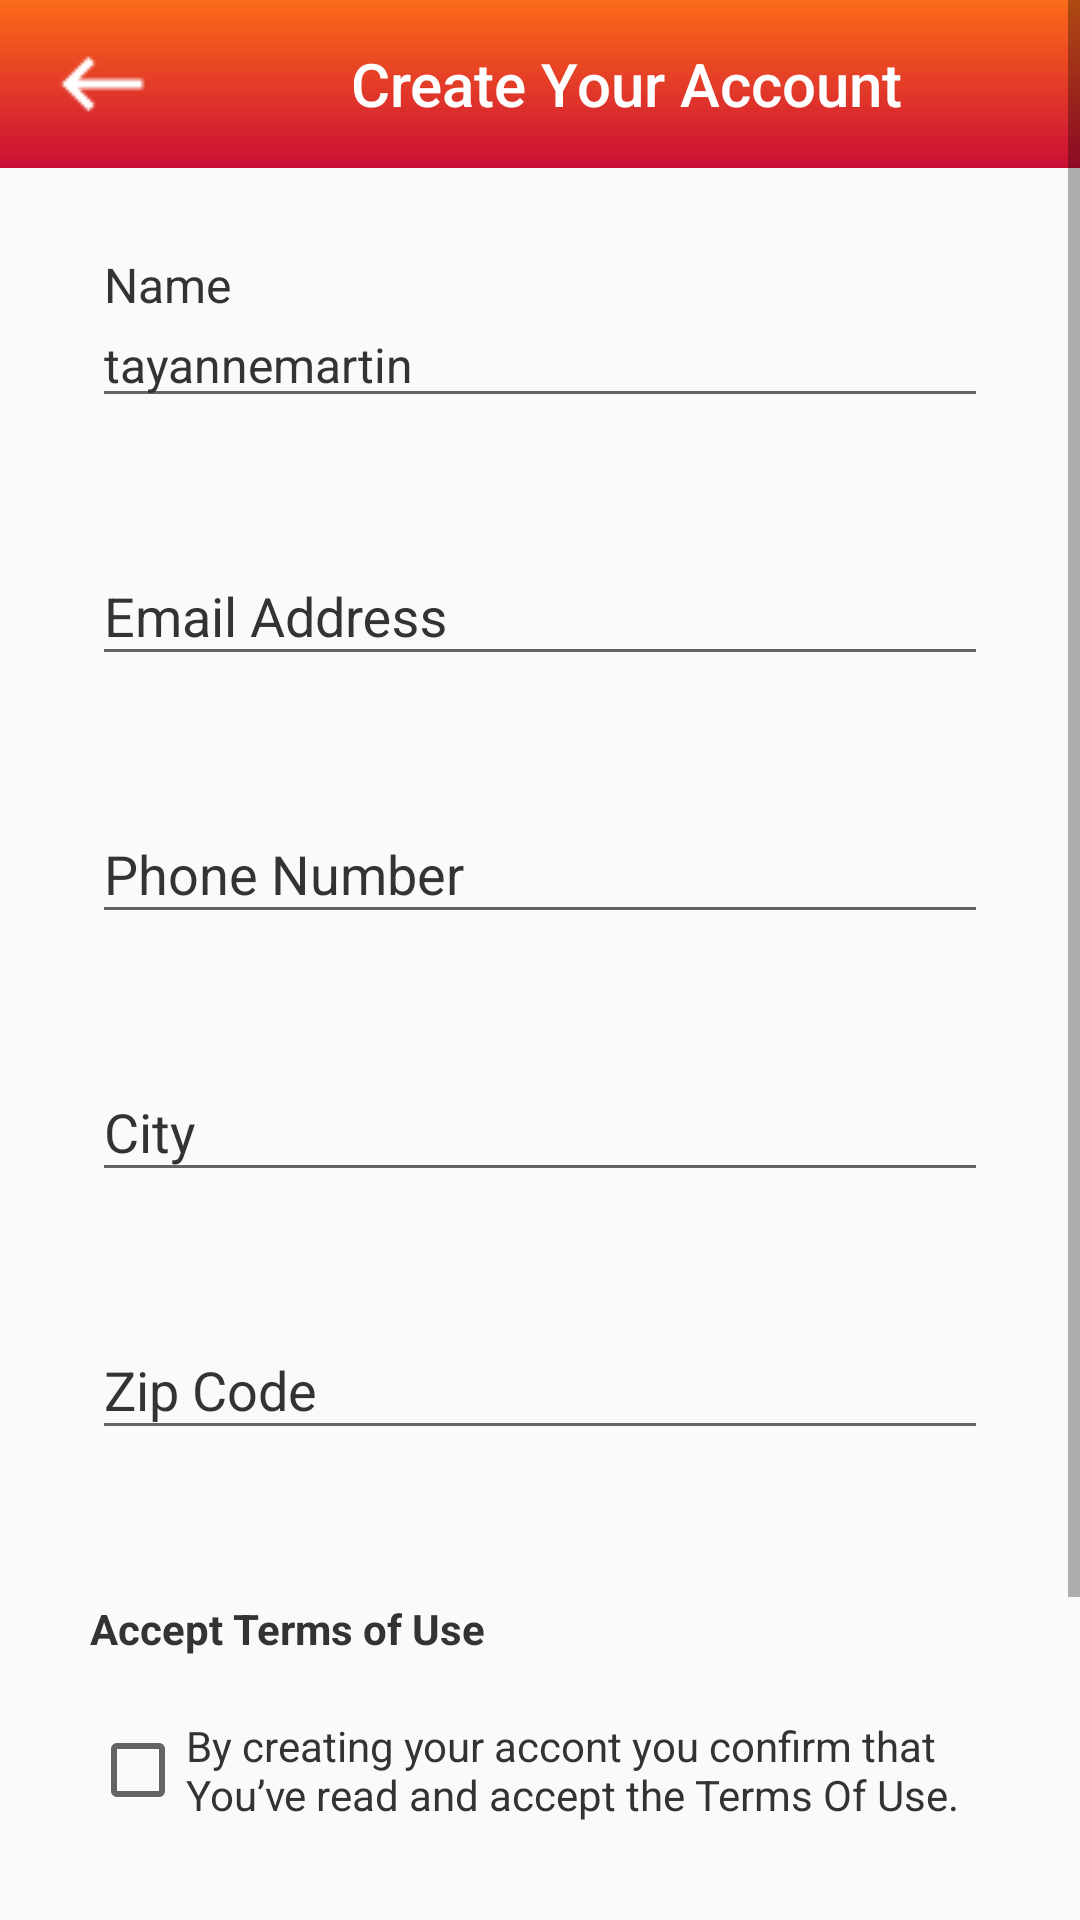

Icon click points for this 1080 × 1920 phone screenshot, format point (x, y):
keyboard backspace: point (103, 84)
